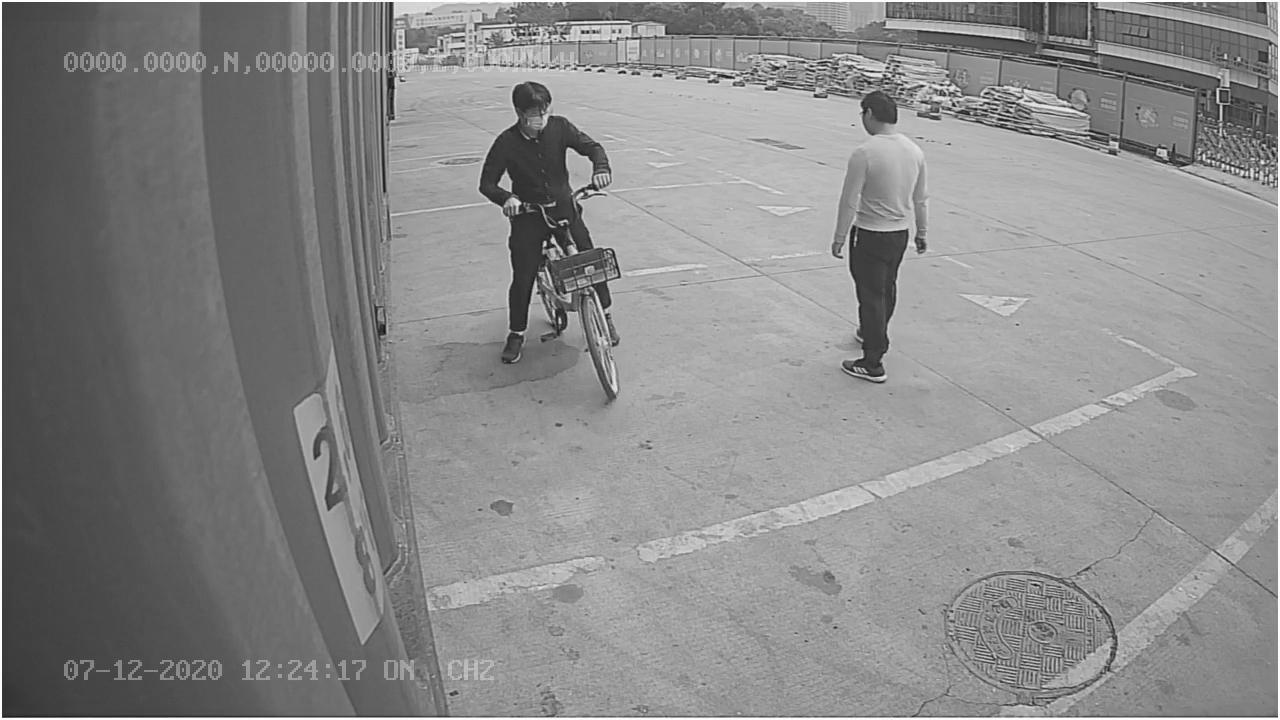person: (827, 89, 933, 386)
